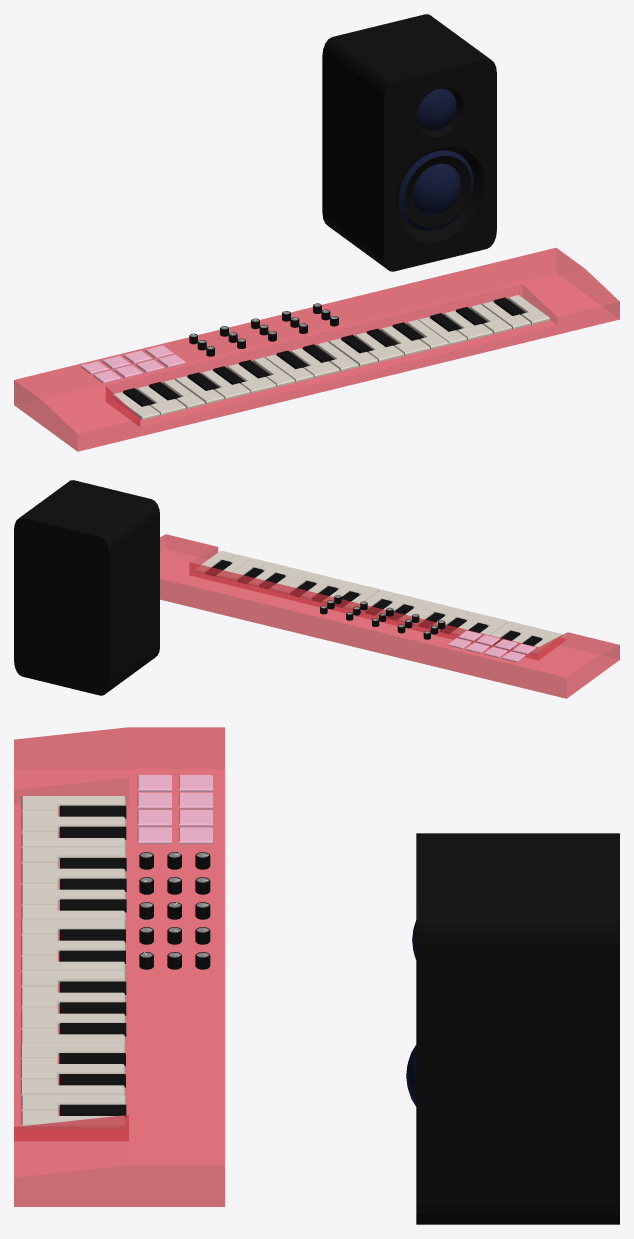
Rendered from offf_keyboard3.glb.
The picture shows the model from 3 angles, top to bottom: view 1: azimuth 30°, elevation 25°; view 2: azimuth 150°, elevation 25°; view 3: azimuth 270°, elevation 25°; orthographic projection. The views are drawn at different scales.
Parts seen in each view (by area): view 1: Cube, piano body, Sphere, drumpads, Sphere.001, Plane.050, Plane.015, Plane.012, Plane.049, Plane.014, Plane.024, Plane.047; view 2: Cube, piano body, drumpads, Plane.015, Plane.024, Plane.049, Plane.016, Plane.025, Plane.026, Plane.014, Plane.047, Plane.001 (+5 smaller); view 3: Cube, piano body, drumpads, Plane.026, Plane.012, Plane.014, Plane.047, Plane.049, Plane.050, Plane.024, Plane.015, Plane.003 (+23 smaller).
Part boxes in pixels (x1=…): Cube: x1=322, y1=14, x2=496, y2=271; piano body: x1=14, y1=247, x2=619, y2=451; Sphere: x1=412, y1=163, x2=460, y2=215; drumpads: x1=80, y1=345, x2=185, y2=383; Sphere.001: x1=417, y1=88, x2=456, y2=130; Plane.050: x1=227, y1=363, x2=276, y2=393; Plane.015: x1=381, y1=326, x2=430, y2=355; Plane.012: x1=290, y1=348, x2=339, y2=377; Plane.049: x1=201, y1=370, x2=250, y2=399; Plane.014: x1=355, y1=332, x2=404, y2=361; Plane.024: x1=443, y1=311, x2=492, y2=340; Plane.047: x1=137, y1=386, x2=186, y2=415; Cube: x1=14, y1=480, x2=159, y2=695; piano body: x1=160, y1=534, x2=619, y2=698; drumpads: x1=447, y1=630, x2=535, y2=662; Plane.015: x1=301, y1=575, x2=342, y2=599; Plane.024: x1=249, y1=562, x2=289, y2=586; Plane.049: x1=451, y1=612, x2=492, y2=635; Plane.016: x1=279, y1=571, x2=320, y2=593; Plane.025: x1=227, y1=558, x2=267, y2=580; Plane.026: x1=195, y1=550, x2=235, y2=573; Plane.014: x1=323, y1=580, x2=363, y2=603; Plane.047: x1=512, y1=625, x2=546, y2=649; Plane.001: x1=217, y1=554, x2=251, y2=578; Cube: x1=416, y1=833, x2=619, y2=1224; piano body: x1=14, y1=727, x2=224, y2=1206; drumpads: x1=137, y1=775, x2=212, y2=844; Plane.026: x1=21, y1=1110, x2=124, y2=1128; Plane.012: x1=21, y1=934, x2=124, y2=956; Plane.014: x1=21, y1=986, x2=124, y2=1008; Plane.047: x1=21, y1=811, x2=125, y2=832; Plane.049: x1=21, y1=863, x2=125, y2=884; Plane.050: x1=21, y1=884, x2=125, y2=905; Plane.024: x1=20, y1=1058, x2=124, y2=1080; Plane.015: x1=21, y1=1007, x2=124, y2=1029; Plane.003: x1=21, y1=847, x2=125, y2=863.
Size of the model in its own units: 13.63 by 4.56 by 7.97.
